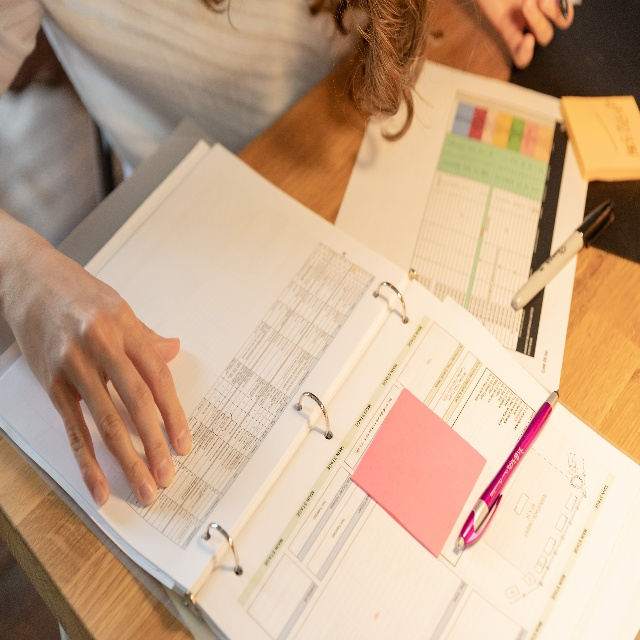Sin_guantes: (0, 237, 192, 512), (473, 0, 583, 72)
